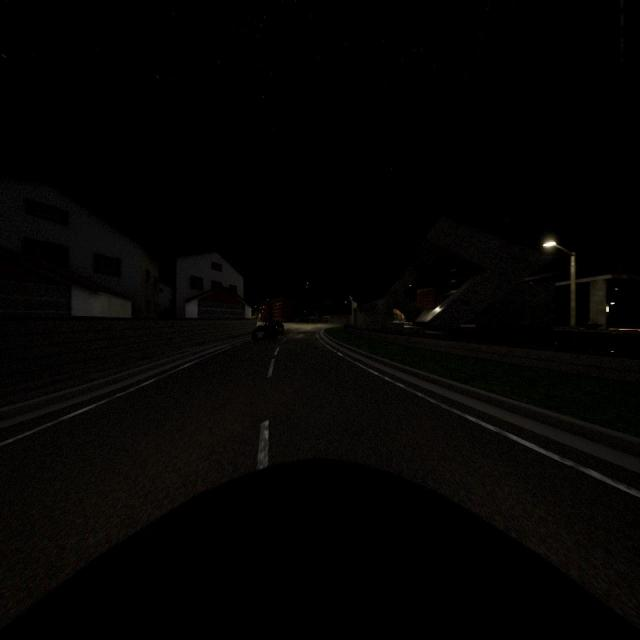Vehicle: (1, 460, 640, 640), (252, 325, 276, 340), (268, 320, 284, 335)
